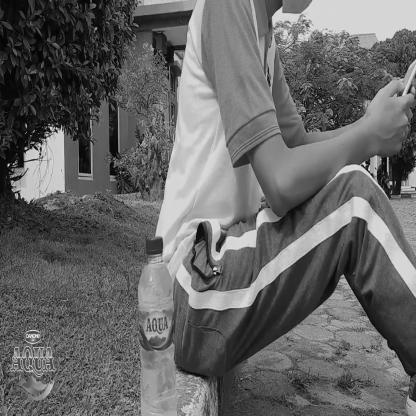plastic_bottles: (136, 235, 178, 416)
